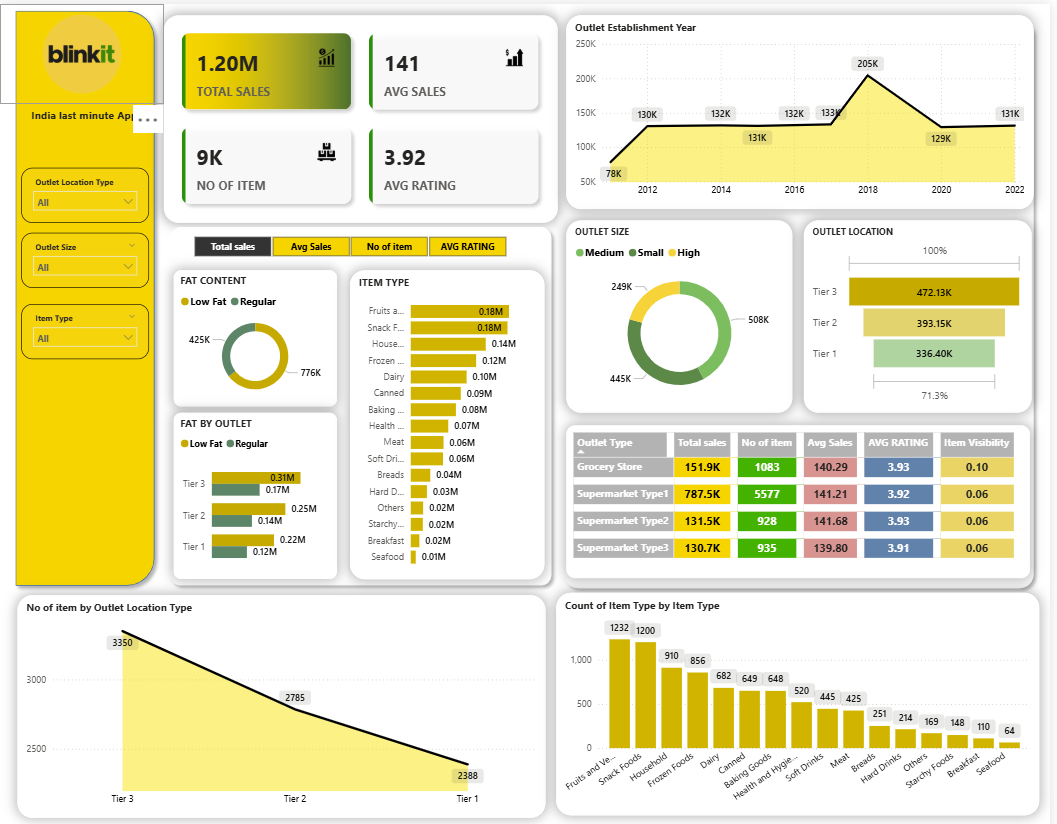

Layout of this report page (visuals, bound fields, positions):
{"tool":"powerbi","page":{"name":"Page 1","canvas":[1400,1200],"ordinal":0},"visuals":[{"type":"shape","box":[744,14,643.5,774.5],"z":0},{"type":"shape","box":[11.4,0,203.5,784.7],"z":1000},{"type":"textbox","box":[29.3,64,166.7,77.3],"z":2000},{"type":"textbox","box":[28.6,132.9,168.6,31.4],"z":3000},{"type":"cardVisual","fields":{"Data":["BlinkIT Grocery Data.Total sales","BlinkIT Grocery Data.Avg Sales","BlinkIT Grocery Data.No of item","BlinkIT Grocery Data.AVG RATING"]},"box":[218.6,15.7,525.7,277.1],"z":4000},{"type":"shape","box":[218.6,288.6,525.7,495.7],"z":5000},{"type":"slicer","fields":{"Values":["Metrics.Metrics"]},"box":[234,302.7,465.5,39.4],"z":6000},{"type":"donutChart","title":"FAT CONTENT ","fields":{"Y":["BlinkIT Grocery Data.Total sales"],"Category":["BlinkIT Grocery Data.Item Fat Content"]},"box":[231.5,354.8,217.5,181.9],"z":7000},{"type":"clusteredBarChart","title":"FAT BY OUTLET","fields":{"Y":["BlinkIT Grocery Data.Total sales"],"Category":["BlinkIT Grocery Data.Outlet Location Type"],"Series":["BlinkIT Grocery Data.Item Fat Content"]},"box":[231.5,545.6,217.5,221.3],"z":8000},{"type":"barChart","title":"ITEM TYPE","fields":{"Y":["BlinkIT Grocery Data.Total sales"],"Category":["BlinkIT Grocery Data.Item Type"]},"box":[466.8,354.8,259.4,412.1],"z":9000},{"type":"lineChart","title":"Outlet Establishment Year","fields":{"Y":["BlinkIT Grocery Data.Total sales"],"Category":["BlinkIT Grocery Data.Outlet Establishment Year"]},"box":[755.7,15.7,622.9,258.6],"z":10000},{"type":"donutChart","title":"OUTLET SIZE","fields":{"Y":["BlinkIT Grocery Data.Total sales"],"Category":["BlinkIT Grocery Data.Outlet Size"]},"box":[754.3,288.6,301.9,256.5],"z":11000,"group":"g1"},{"type":"group","id":"g1","title":"Group 1","box":[754.3,288.6,620,257.1],"z":11000},{"type":"funnel","title":"OUTLET LOCATION ","fields":{"Category":["BlinkIT Grocery Data.Outlet Location Type"],"Y":["Sum(BlinkIT Grocery Data.Sales)"]},"box":[1070.3,288.6,304.3,256.5],"z":12000,"group":"g1"},{"type":"pivotTable","fields":{"Rows":["BlinkIT Grocery Data.Outlet Type"],"Values":["BlinkIT Grocery Data.Total sales","BlinkIT Grocery Data.No of item","BlinkIT Grocery Data.Avg Sales","BlinkIT Grocery Data.AVG RATING","Avg(BlinkIT Grocery Data.Item Visibility)"]},"box":[754.3,561.4,618.6,204.3],"z":12000},{"type":"slicer","fields":{"Values":["BlinkIT Grocery Data.Outlet Location Type"]},"box":[28,218.8,170.4,73.8],"z":13000},{"type":"slicer","fields":{"Values":["BlinkIT Grocery Data.Outlet Size"]},"box":[28,305.2,170.4,73.8],"z":14000},{"type":"slicer","fields":{"Values":["BlinkIT Grocery Data.Item Type"]},"box":[28,400.6,170.4,73.8],"z":15000},{"type":"areaChart","fields":{"Category":["BlinkIT Grocery Data.Outlet Location Type"],"Y":["BlinkIT Grocery Data.No of item"]},"box":[22.9,788.6,704.3,297.1],"z":16000},{"type":"columnChart","fields":{"Category":["BlinkIT Grocery Data.Item Type"],"Y":["CountNonNull(BlinkIT Grocery Data.Item Type)"]},"box":[741.4,784.3,644.3,297.1],"z":17000},{"type":"image","box":[0,0,218.6,132.9],"z":18000}]}

Visuals, with their boxes on the page's 1400x1200 design canvas (x1, y1, x2, y2). These are canvas units, not pixel positions in the 1057x824 screenshot, which may show the page scaled, cropped or inside an application window:
shape: (x1=744, y1=14, x2=1388, y2=788)
shape: (x1=11, y1=0, x2=215, y2=785)
textbox: (x1=29, y1=64, x2=196, y2=141)
textbox: (x1=29, y1=133, x2=197, y2=164)
cardVisual - BlinkIT Grocery Data.Total sales x BlinkIT Grocery Data.Avg Sales: (x1=219, y1=16, x2=744, y2=293)
shape: (x1=219, y1=289, x2=744, y2=784)
slicer - Metrics.Metrics: (x1=234, y1=303, x2=700, y2=342)
"FAT CONTENT " donutChart: (x1=232, y1=355, x2=449, y2=537)
"FAT BY OUTLET" clusteredBarChart: (x1=232, y1=546, x2=449, y2=767)
"ITEM TYPE" barChart: (x1=467, y1=355, x2=726, y2=767)
"Outlet Establishment Year" lineChart: (x1=756, y1=16, x2=1379, y2=274)
"OUTLET SIZE" donutChart: (x1=754, y1=289, x2=1056, y2=545)
"Group 1" group: (x1=754, y1=289, x2=1374, y2=546)
"OUTLET LOCATION " funnel: (x1=1070, y1=289, x2=1375, y2=545)
pivotTable - BlinkIT Grocery Data.Outlet Type x BlinkIT Grocery Data.Total sales: (x1=754, y1=561, x2=1373, y2=766)
slicer - BlinkIT Grocery Data.Outlet Location Type: (x1=28, y1=219, x2=198, y2=293)
slicer - BlinkIT Grocery Data.Outlet Size: (x1=28, y1=305, x2=198, y2=379)
slicer - BlinkIT Grocery Data.Item Type: (x1=28, y1=401, x2=198, y2=474)
areaChart - BlinkIT Grocery Data.Outlet Location Type x BlinkIT Grocery Data.No of item: (x1=23, y1=789, x2=727, y2=1086)
columnChart - BlinkIT Grocery Data.Item Type x CountNonNull(BlinkIT Grocery Data.Item Type): (x1=741, y1=784, x2=1386, y2=1081)
image: (x1=0, y1=0, x2=219, y2=133)
